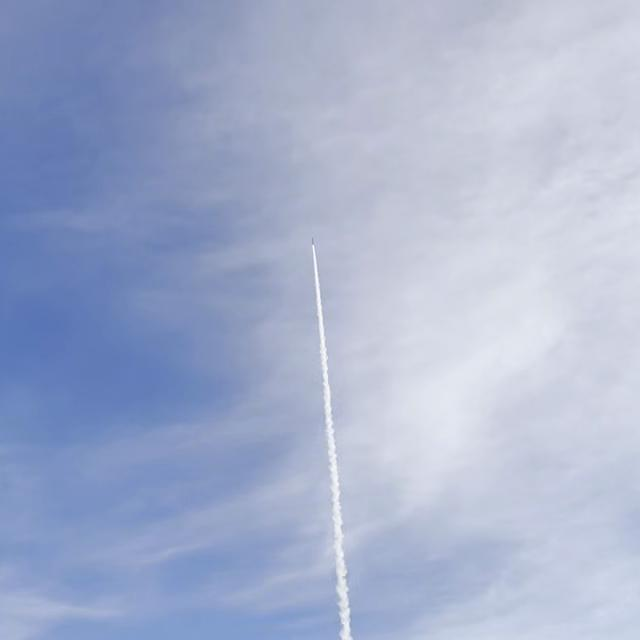smoke_trail_with_rocket: (312, 241, 351, 640)
